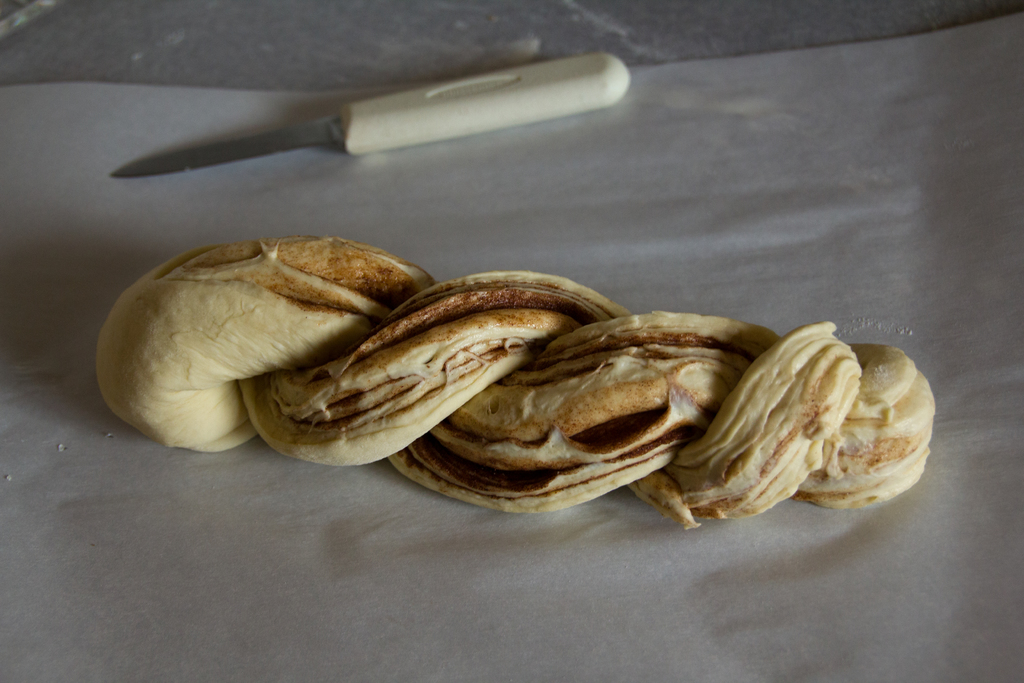kitchen knife: (111, 48, 627, 178)
